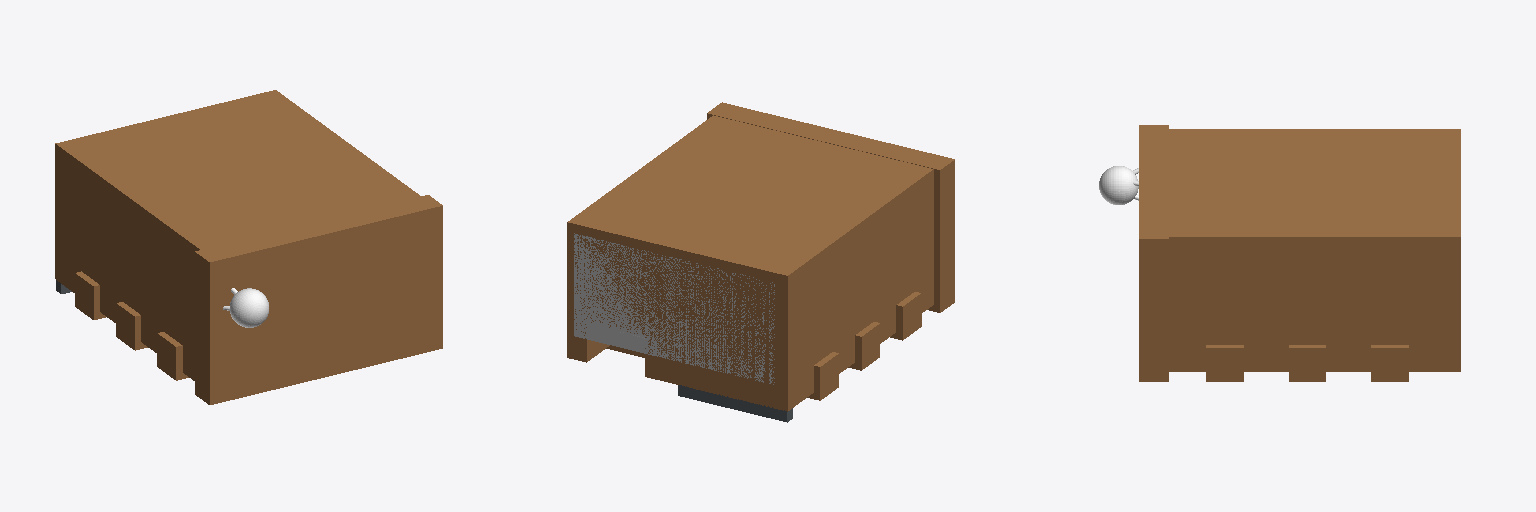
File: tinker 10.obj
The picture shows the model from 3 angles: view 1: azimuth 30°, elevation 25°; view 2: azimuth 150°, elevation 25°; view 3: azimuth 270°, elevation 25°; orthographic projection.
Visible parts, largest first — view 1: obj_13, obj_12, obj_18; view 2: obj_13, obj_16, obj_12, obj_15, obj_0, obj_10, obj_6; view 3: obj_13, obj_12, obj_18, obj_0, obj_10, obj_6.
Boxes of the visible parts, box(x1,y1,x2,y2) form: obj_13: box(55, 90, 420, 380); obj_12: box(195, 195, 442, 404); obj_18: box(230, 288, 268, 327); obj_13: box(567, 115, 933, 411); obj_16: box(574, 233, 774, 384); obj_12: box(707, 102, 954, 312); obj_15: box(678, 385, 792, 422); obj_0: box(606, 345, 830, 400); obj_10: box(890, 297, 913, 340); obj_6: box(848, 327, 872, 370); obj_13: box(1169, 129, 1460, 371); obj_12: box(1139, 125, 1168, 381); obj_18: box(1099, 166, 1138, 204); obj_0: box(1386, 345, 1408, 381); obj_10: box(1221, 345, 1243, 381); obj_6: box(1304, 345, 1325, 381).
Size of the model in its own units: 36 by 21.67 by 48.33.